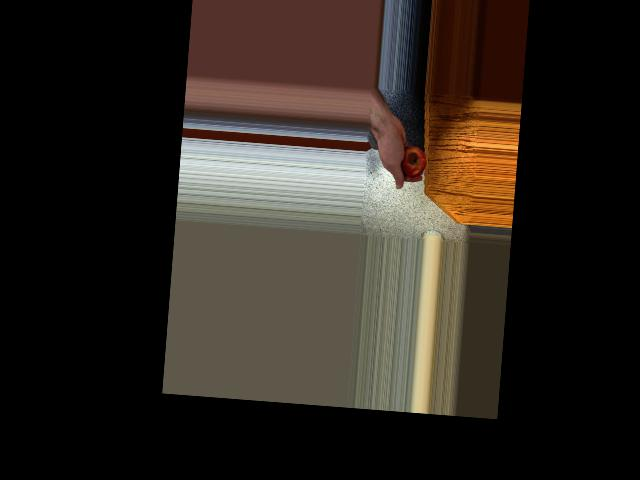apple: (395, 137, 429, 179)
